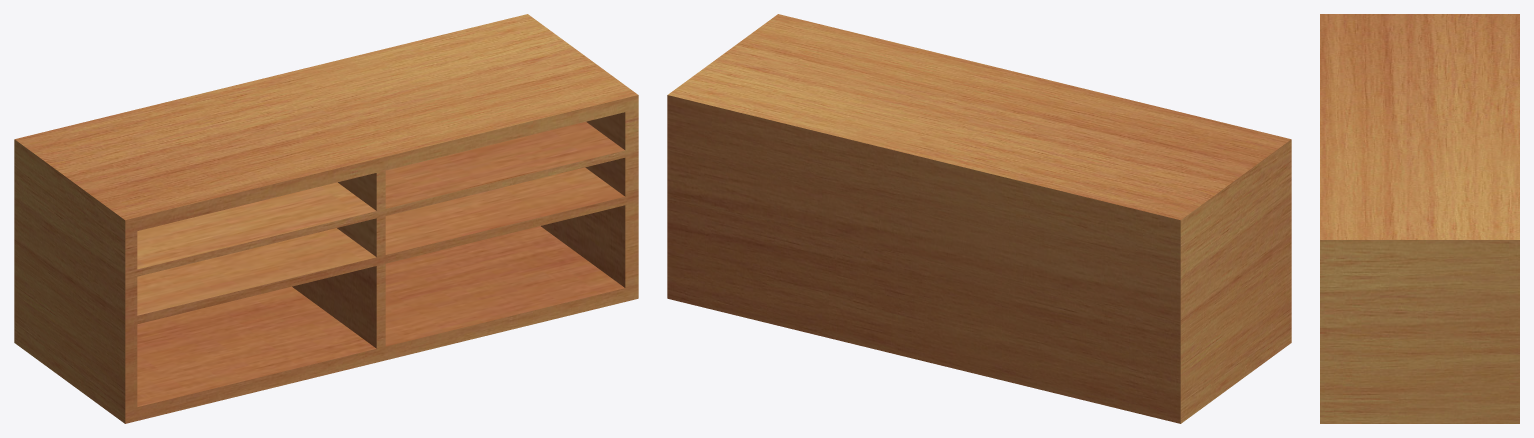
Rendered from Cupboard_small.fbx.
3 views of the same model, side by side, from view 1: azimuth 30°, elevation 25°; view 2: azimuth 150°, elevation 25°; view 3: azimuth 270°, elevation 25° (orthographic). The views are drawn at different scales.
Parts seen in each view (by area): view 1: pCube1; view 2: pCube1; view 3: pCube1.
Boxes of the visible parts, x1=… form: pCube1: x1=14, y1=14, x2=638, y2=423; pCube1: x1=667, y1=14, x2=1291, y2=423; pCube1: x1=1320, y1=14, x2=1519, y2=423.
Bounding box in the file's own units: 1.46 × 0.5542 × 0.5458.
1 material, 1 textured.
